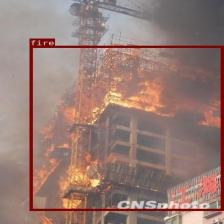fire: (29, 45, 223, 210)
